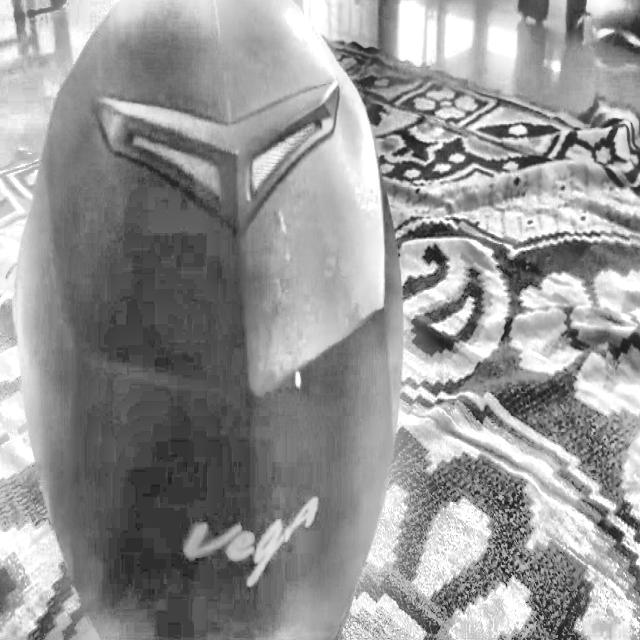Helmet: (2, 0, 410, 640)
